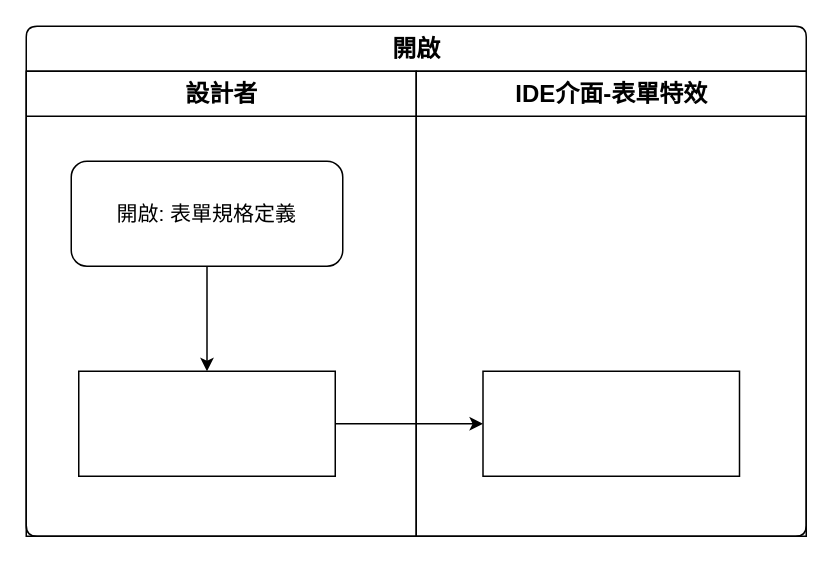
Some shapes in this 833 by 563 pixel diagram are drawn without their labels. The shapes that lost their labels are listed below. From the top down, each one's box as (x1, y1, x2, y2) in pixels, then its label:
(77, 370, 335, 476): 駐留節點: 表單特效
(482, 370, 740, 476): 顯示本單畫面 並載入已加註資料
